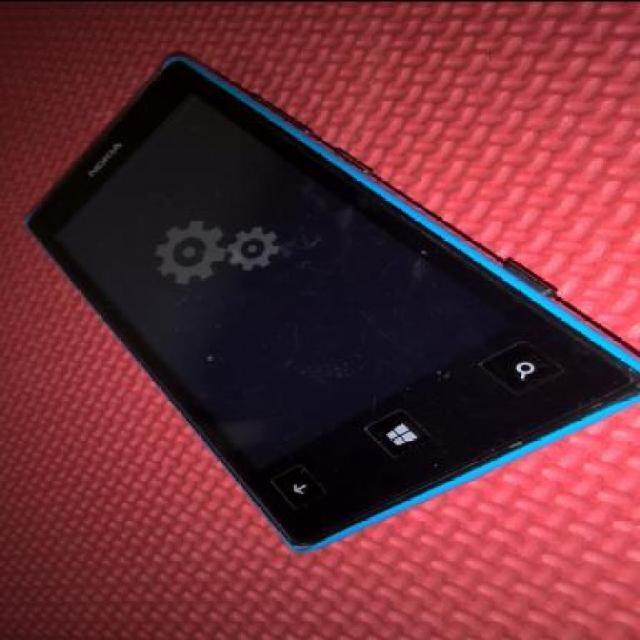phone: (56, 44, 607, 560)
